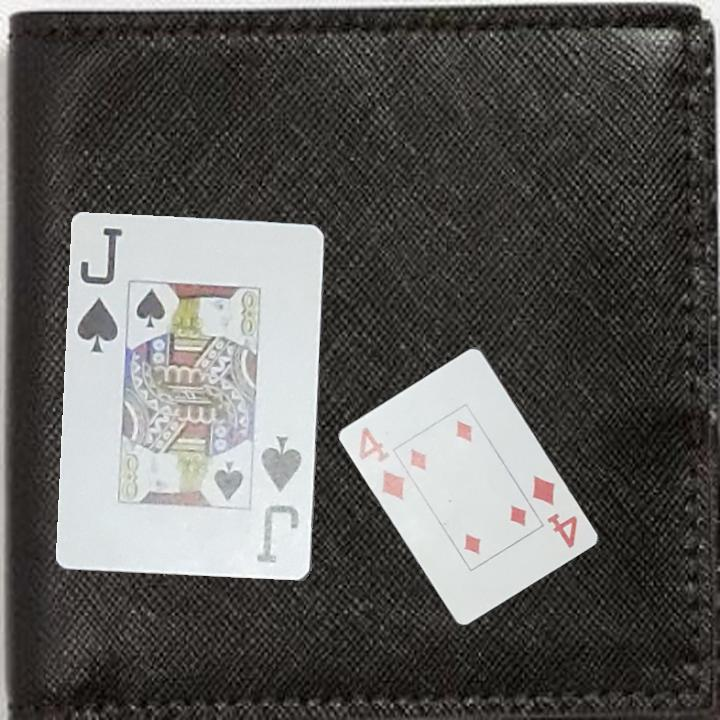4d: (355, 423, 408, 503), (529, 472, 581, 551)
Js: (253, 434, 305, 571), (73, 224, 126, 357)
